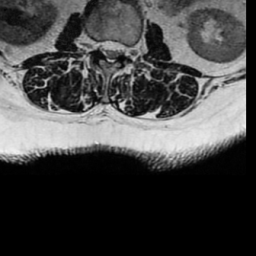CCS_normal: (107, 30, 115, 70)
LFS_normal: (124, 35, 132, 67)
LLS_normal: (115, 33, 124, 63)
RFS_normal: (90, 29, 99, 58)
RLS_normal: (99, 30, 107, 62)
